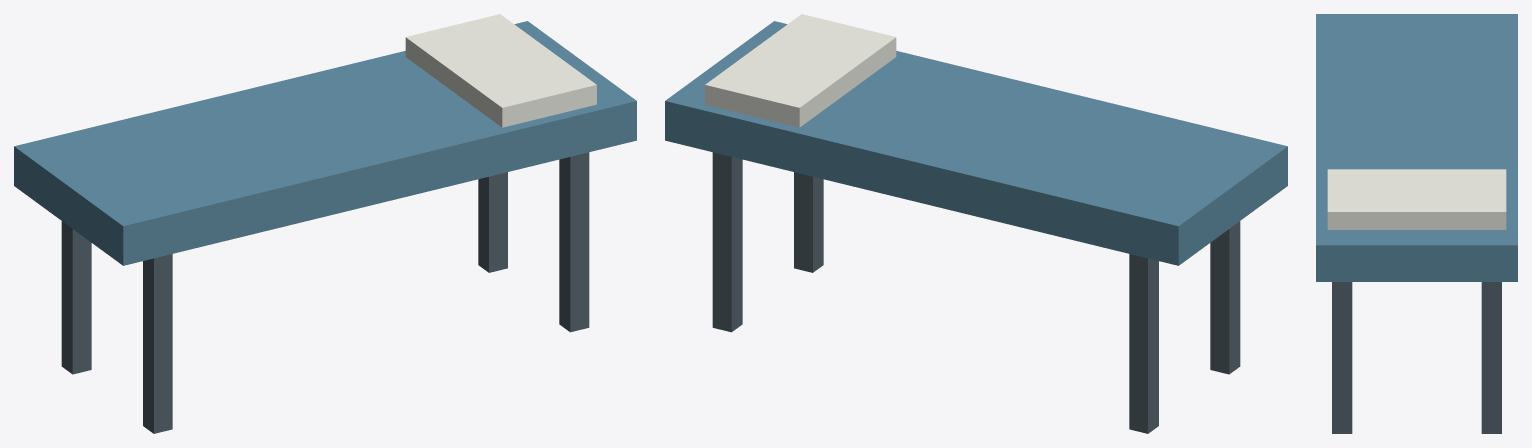
The model's file is football-soccer-club-grounds-treatment-table-2eeb6a53.glb.
3 views of the same model, side by side, from view 1: azimuth 30°, elevation 25°; view 2: azimuth 150°, elevation 25°; view 3: azimuth 270°, elevation 25° (orthographic). The views are drawn at different scales.
Parts seen in each view (by area): view 1: treatment-table; view 2: treatment-table; view 3: treatment-table.
Part boxes in pixels (<box>): treatment-table: <box>14,14,636,433</box>; treatment-table: <box>665,14,1287,433</box>; treatment-table: <box>1316,14,1517,433</box>.
Size of the model in its own units: 1.9 by 0.86 by 0.7001.
